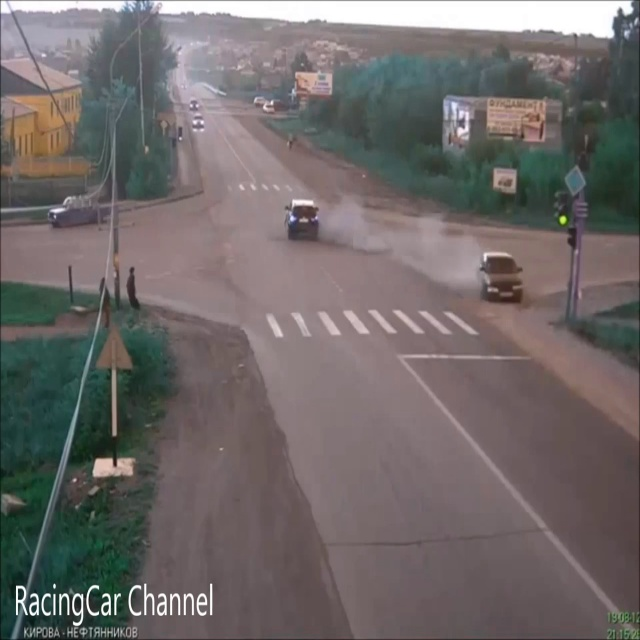acc: (281, 197, 526, 303)
